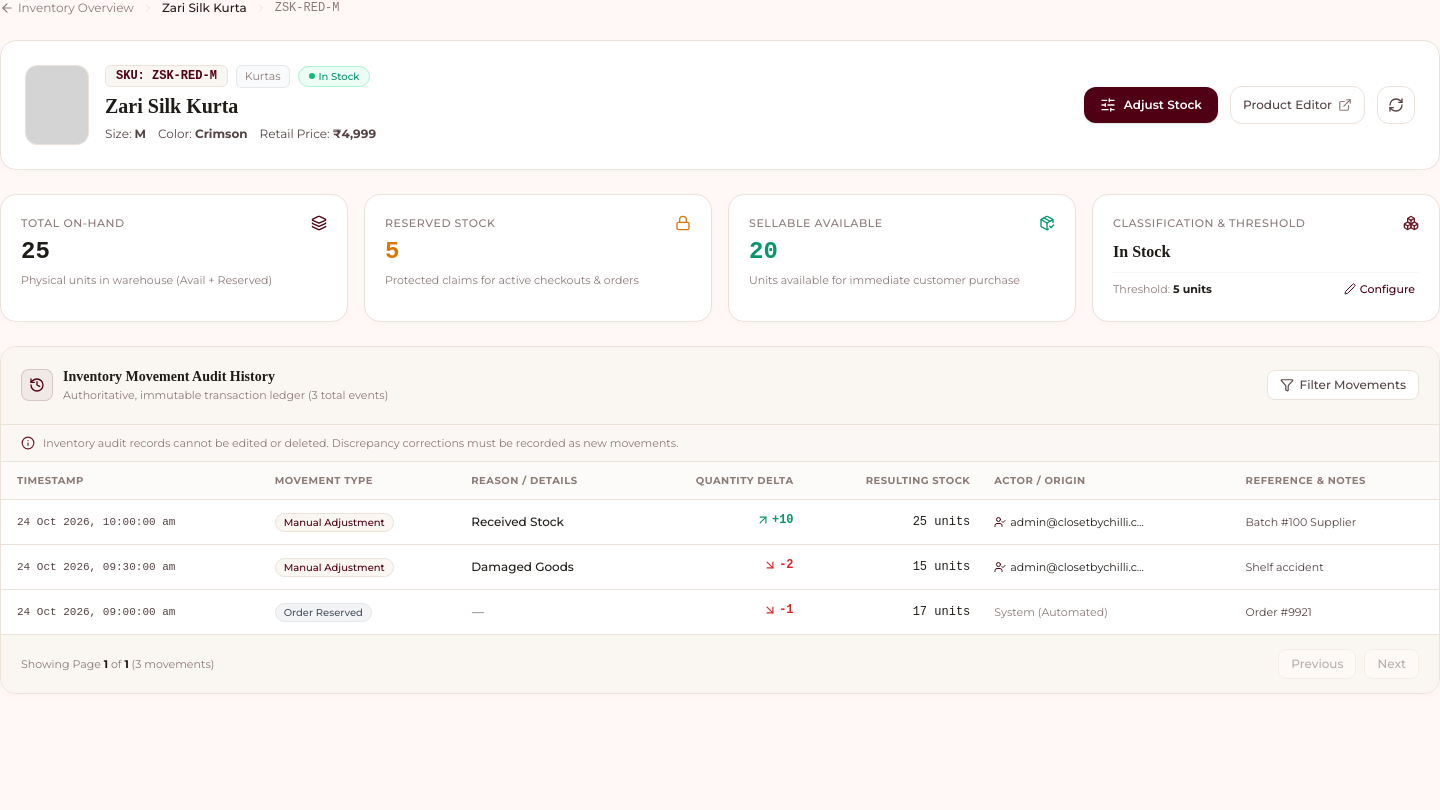
it: AdminInventoryDetailClient & Stock Adjustment Flow › prevents stock reduction that exceeds available stock (protecting reservations)
Click the button "Adjust Stock". click: (1151, 105)
box: [1084,87,1218,123]
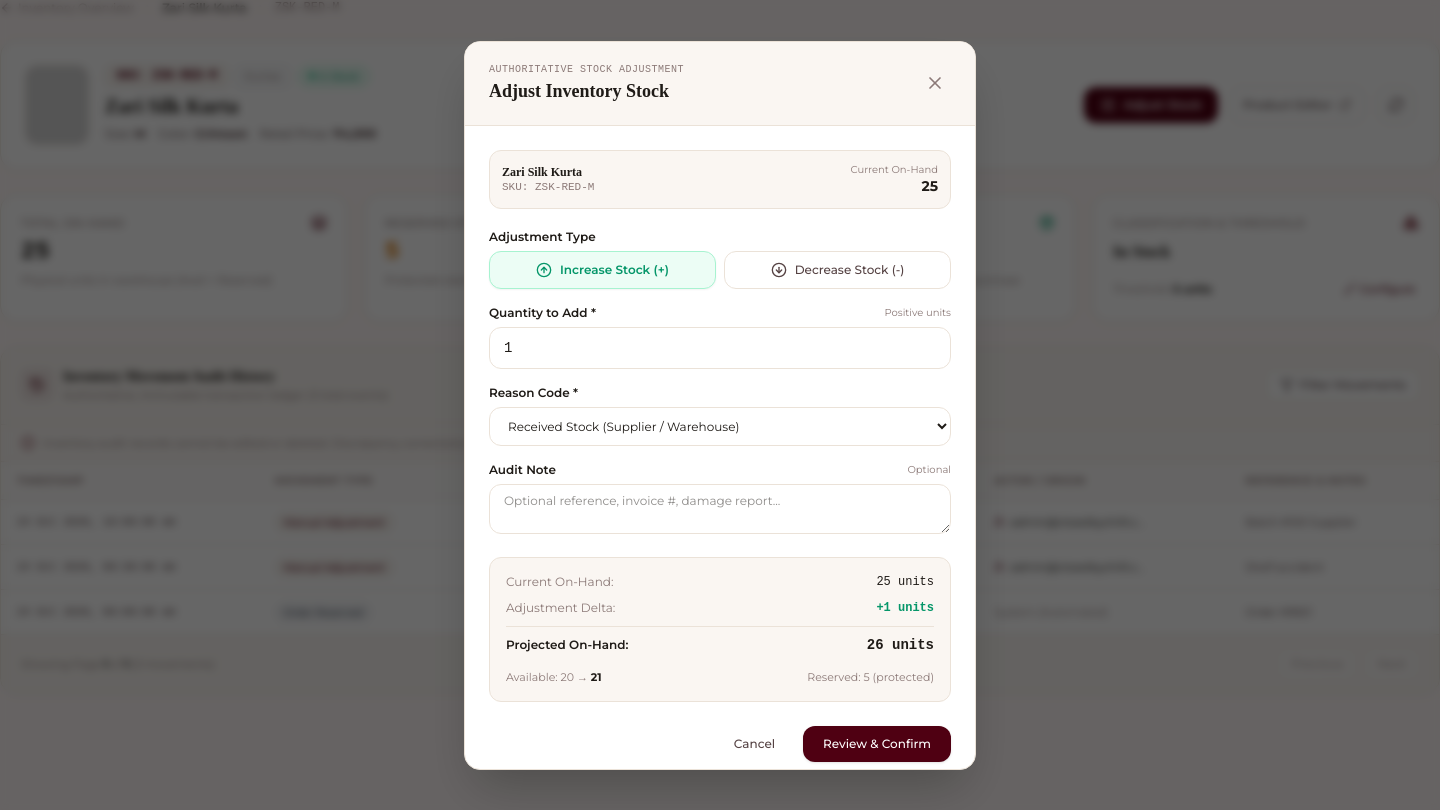
Note: Switch to Decrease Stock
Click the button "Decrease Stock (-)". click: (838, 270)
box: [724,251,951,289]
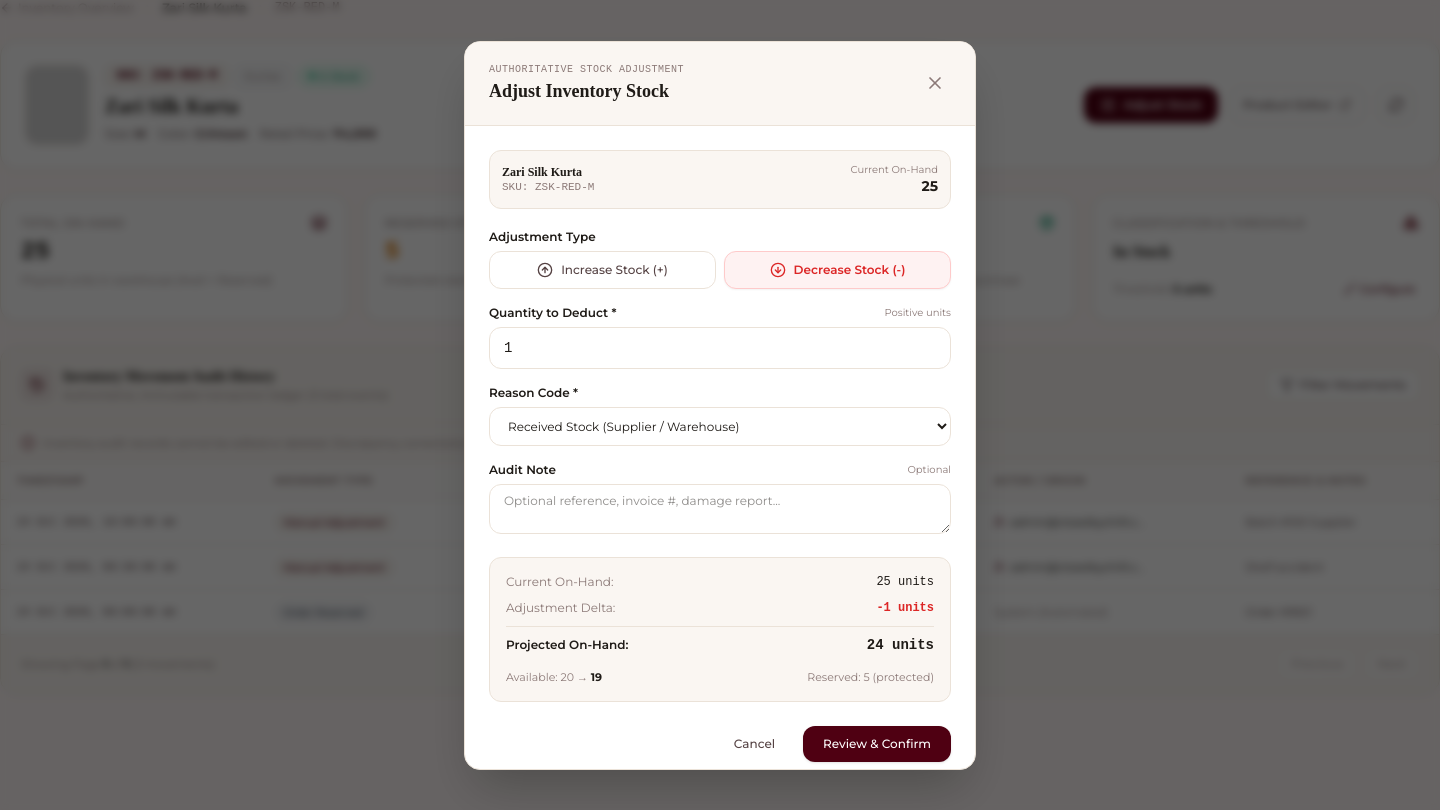
Note: Attempt to decrease by 22 (only 20 available, 5 reserved)
Replace the text in the number field labelled "Quantity to Deduct *" with "22". click: (720, 348)
box: [489,327,951,369]
(page scrolled)
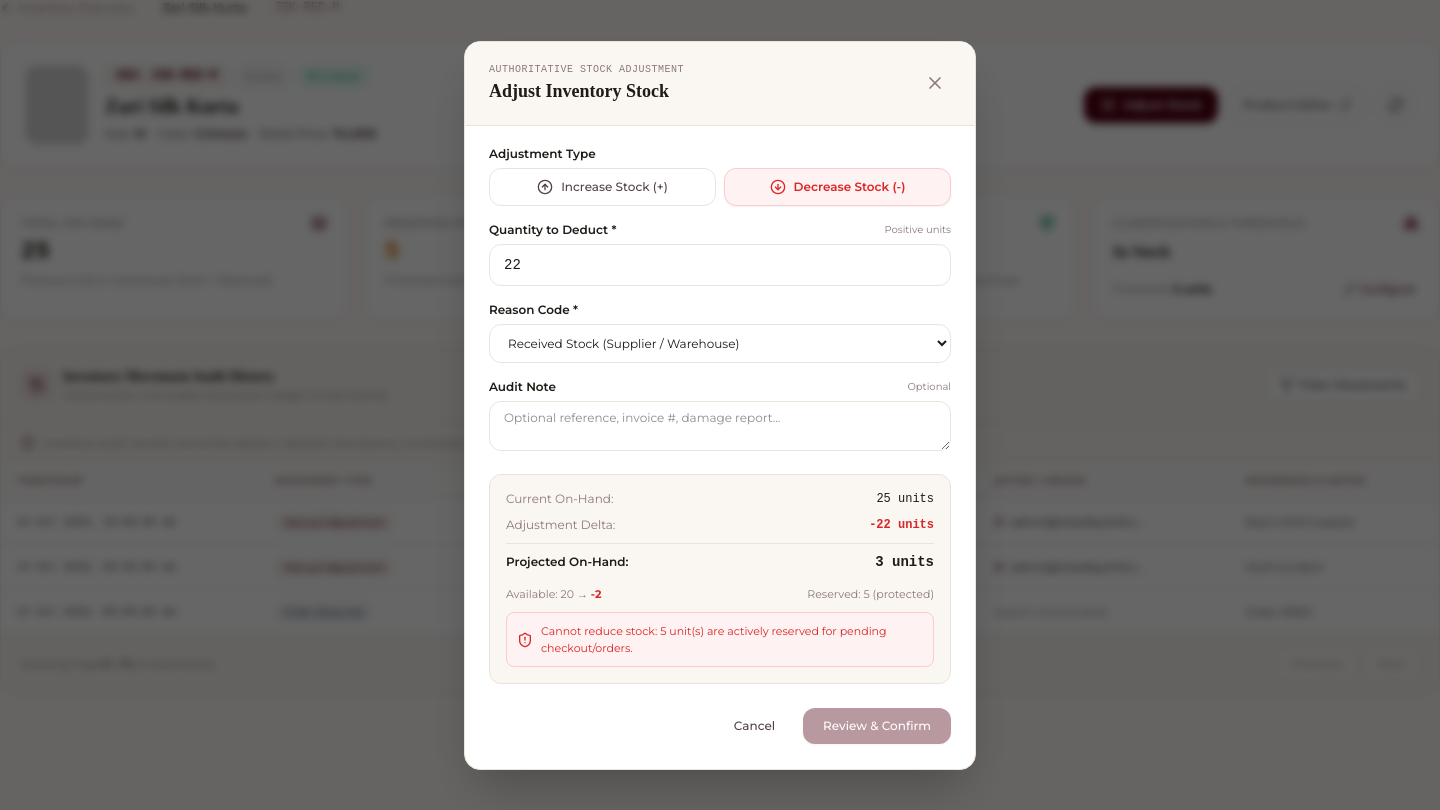
Now the text "Cannot reduce stock: 5 unit(s) are actively reserved" is shown, box [541,623,923,656]
Now the button "Review & Confirm" is disabled, box [803,708,951,744]
